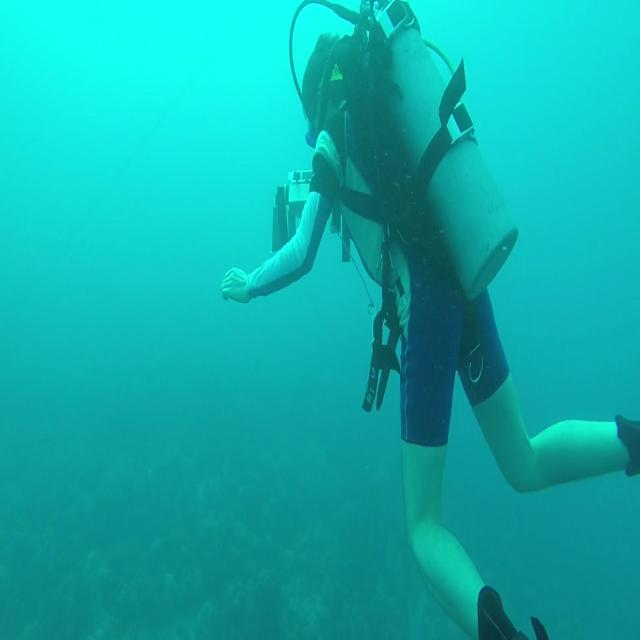human: (221, 0, 638, 638)
